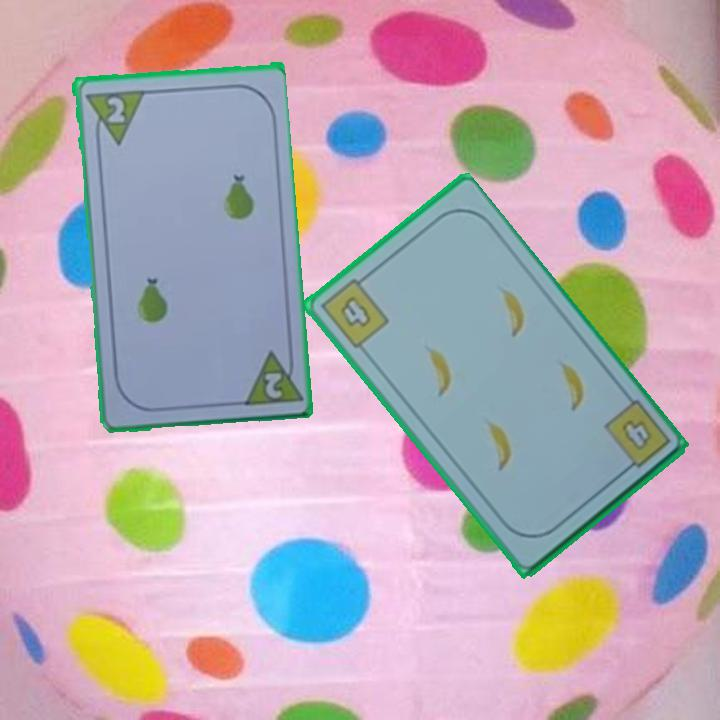2p: (103, 92, 128, 126), (260, 368, 285, 402)
4b: (317, 271, 392, 352), (600, 396, 673, 478)
